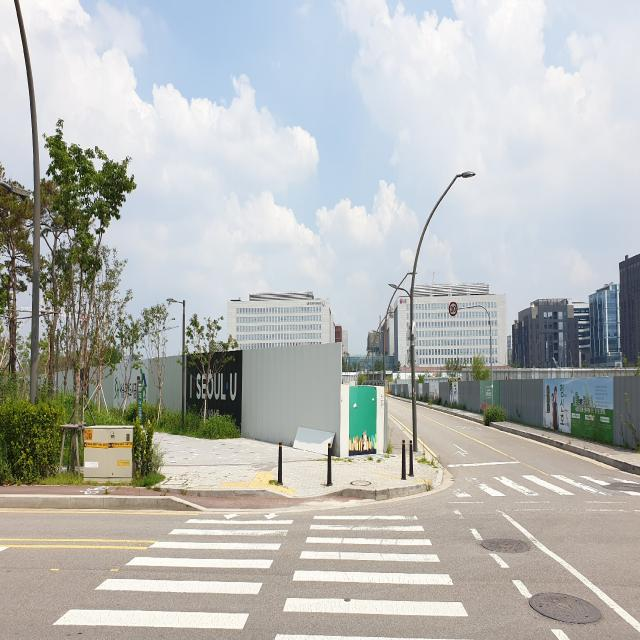횡단보도: (51, 509, 470, 640), (439, 468, 640, 509)
